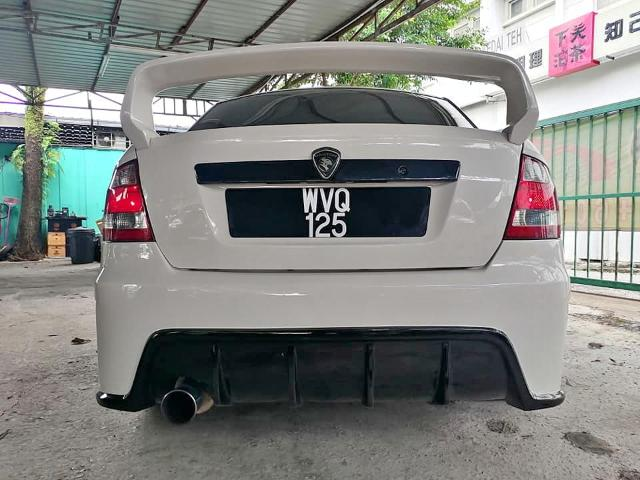License_Plate: (257, 188, 402, 243)
car: (81, 28, 587, 430)
